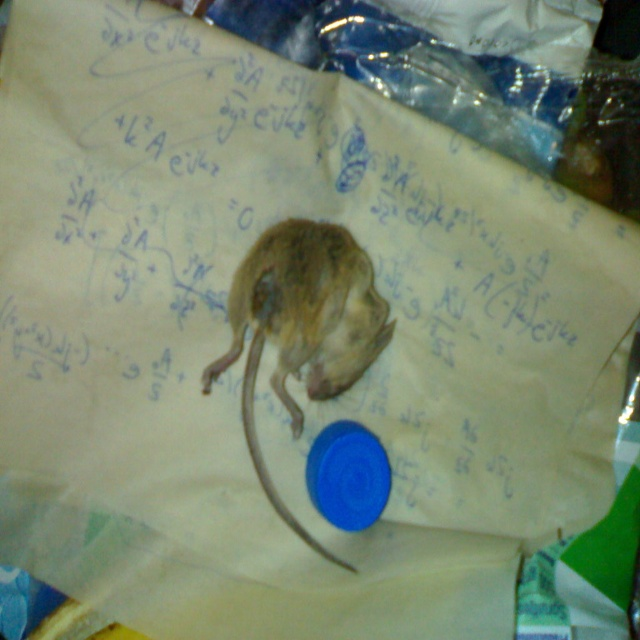Mouse: (202, 219, 397, 566)
